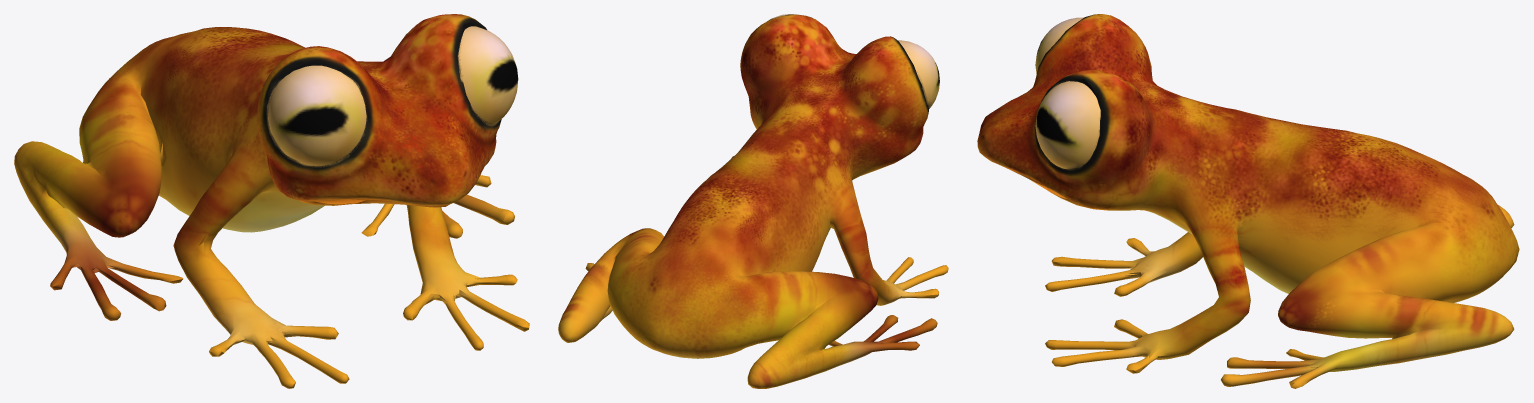
File: frog.7a448e05.glb
3 views of the same model, side by side, from view 1: azimuth 30°, elevation 25°; view 2: azimuth 150°, elevation 25°; view 3: azimuth 270°, elevation 25° (orthographic). The views are drawn at different scales.
Visible parts, largest first — view 1: Object_2; view 2: Object_2; view 3: Object_2.
Boxes of the visible parts, x1,y1,x2,y2 form: Object_2: [14, 14, 529, 388]; Object_2: [558, 14, 948, 388]; Object_2: [977, 14, 1519, 388].
Bounding box in the file's own units: 1.02 × 0.6958 × 1.25.
Materials: 1 (1 with a texture image).
